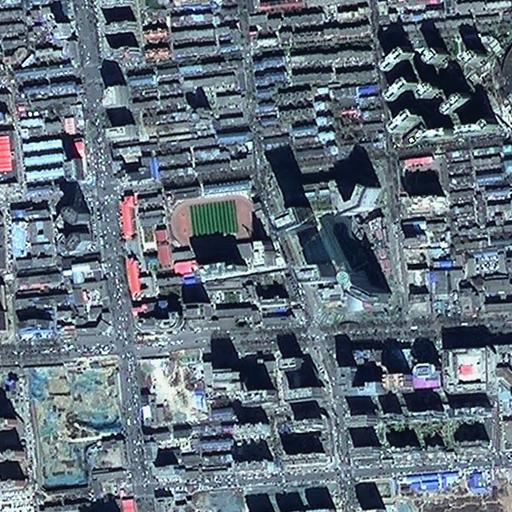school: (112, 186, 256, 263)
